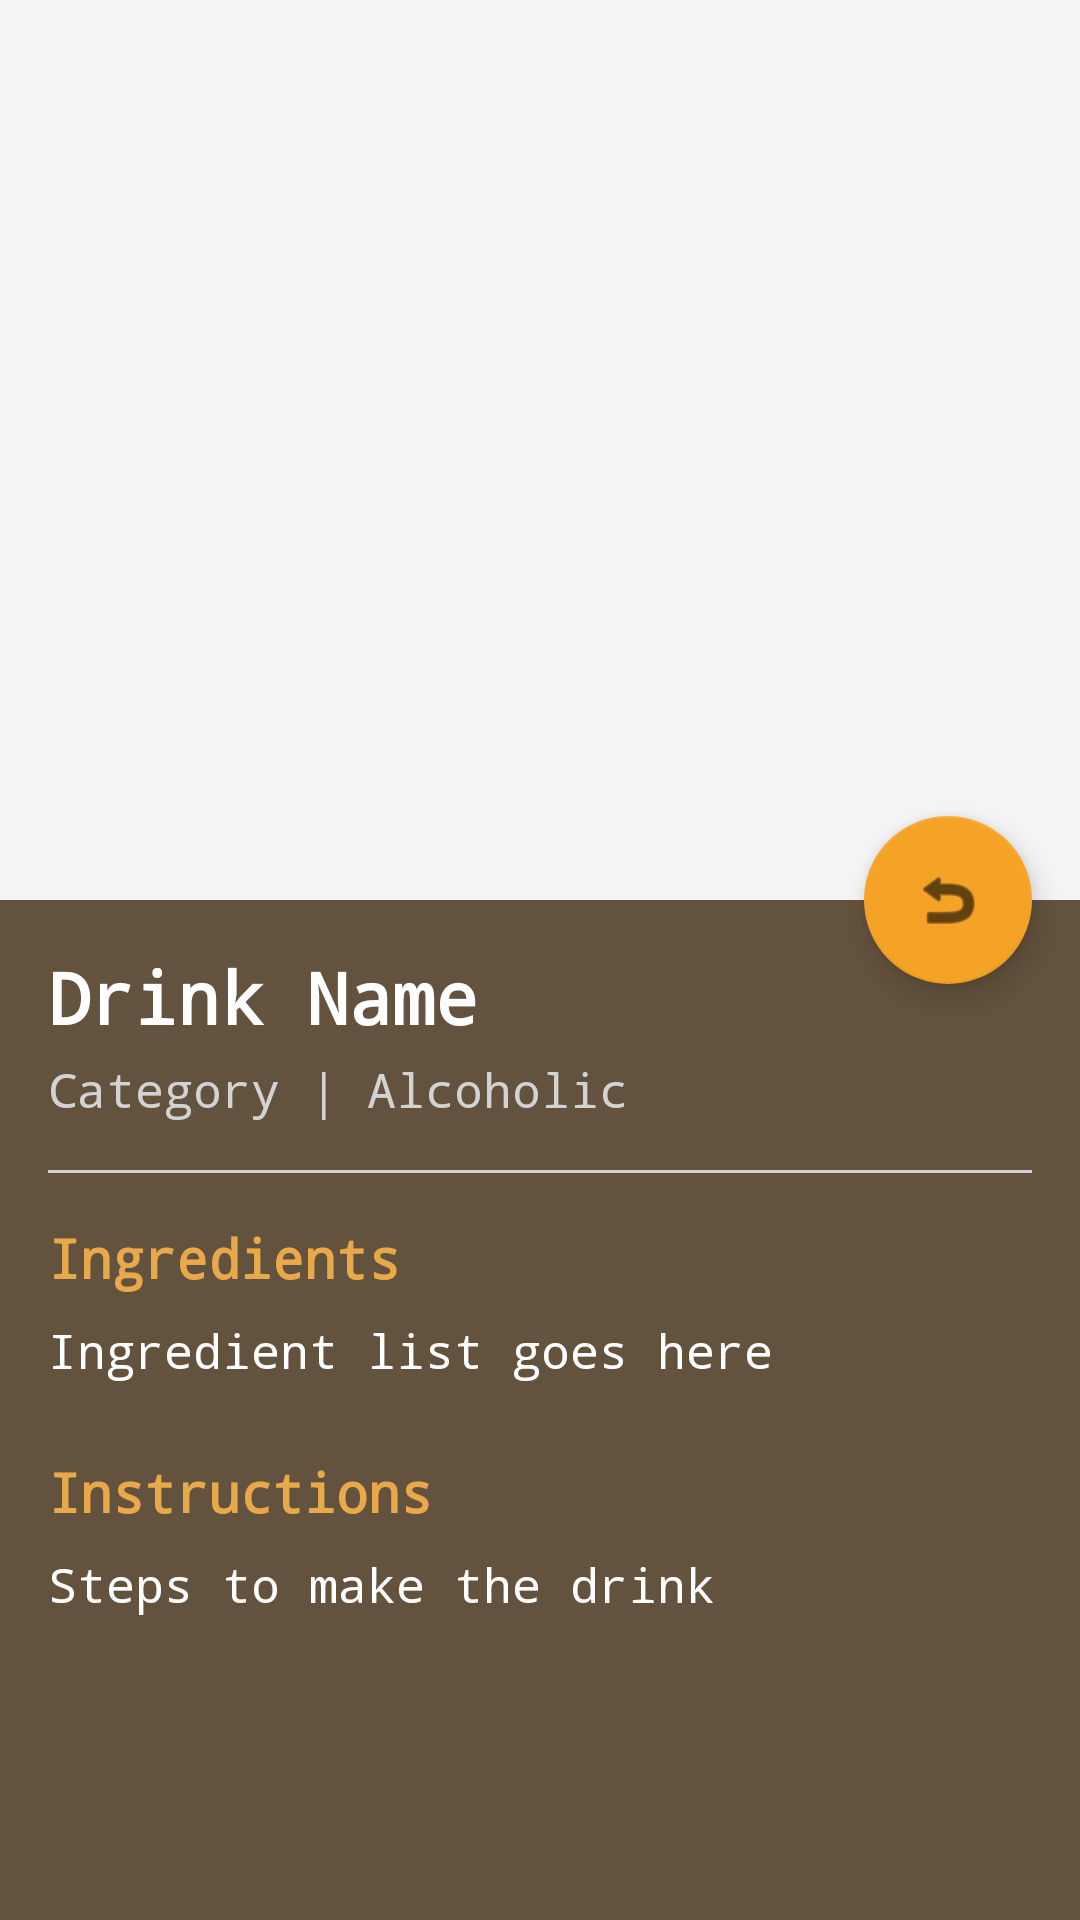

Icon click points for this 1080 × 1920 phone screenshot, format (x,y):
Go back: (948,900)
